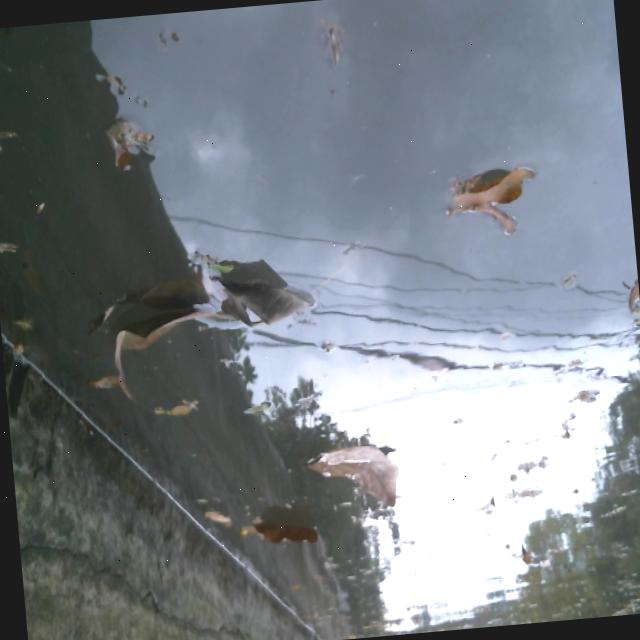Big-leaf: (98, 278, 223, 399), (299, 427, 408, 519), (214, 253, 319, 340), (435, 158, 532, 216), (234, 508, 321, 563)
Small-leaf: (442, 199, 529, 250), (79, 106, 147, 170), (493, 475, 557, 517), (317, 10, 351, 77), (147, 392, 197, 432), (3, 291, 30, 347), (614, 274, 640, 329), (285, 387, 324, 420), (198, 498, 231, 534), (565, 379, 611, 404), (550, 264, 579, 303), (239, 392, 276, 416), (513, 538, 535, 570), (0, 107, 13, 154), (0, 220, 13, 266), (32, 192, 54, 216)
